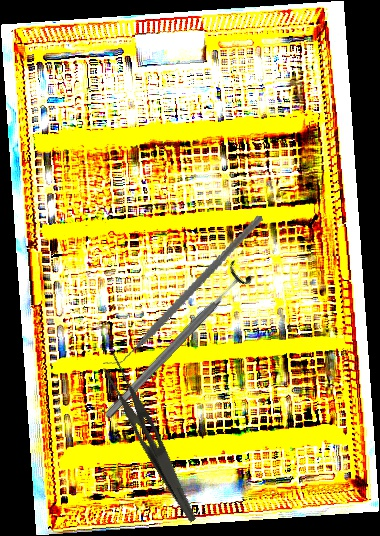Chopper: (101, 190, 264, 390)
Dressing Forceps: (91, 351, 215, 524)
Fixation Ring: (95, 258, 255, 428)
